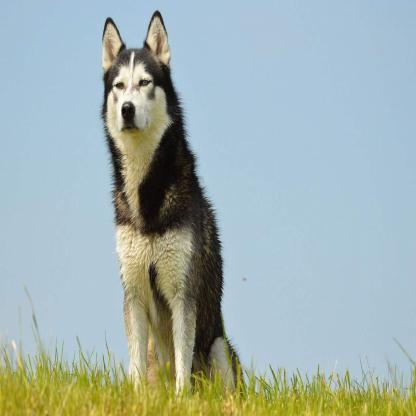dog: (100, 11, 244, 393)
